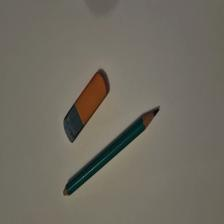eraser: (64, 73, 110, 145)
pencil: (65, 110, 161, 198)
